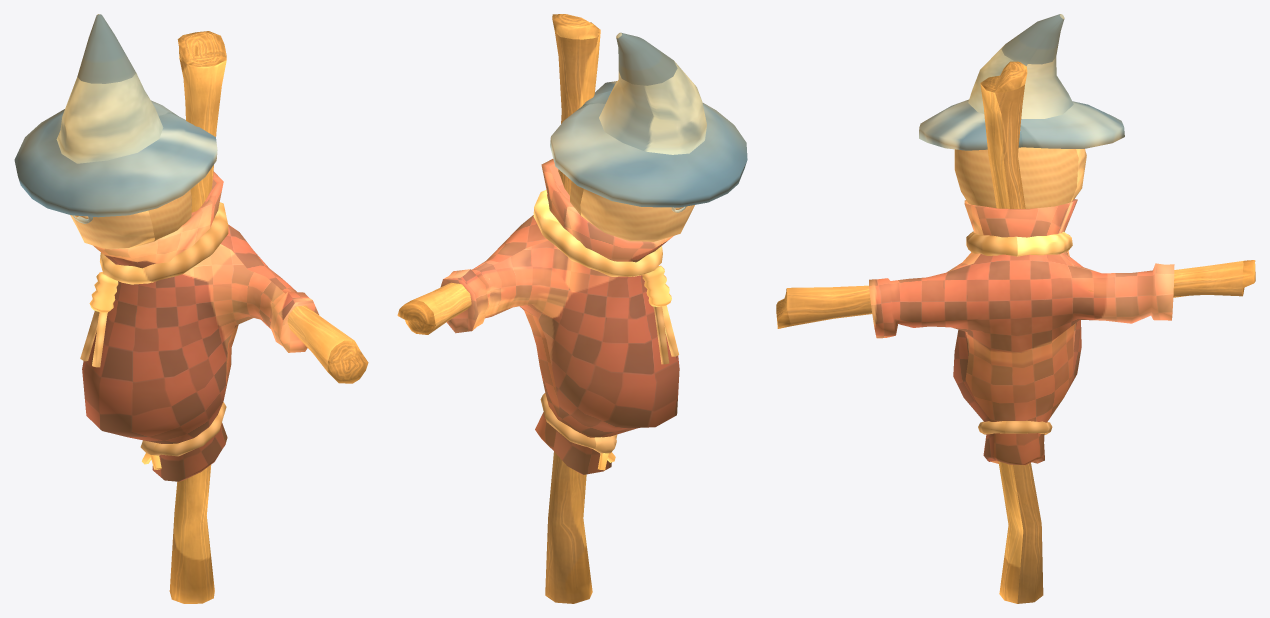
File: SM_Stylized_Scarecrow.fbx
3 renders of one model, left to right at view 1: azimuth 30°, elevation 25°; view 2: azimuth 150°, elevation 25°; view 3: azimuth 270°, elevation 25°, orthographic. The views are drawn at different scales.
Visible parts, largest first — view 1: SM_Stylized_Scarecrow_LOD0; view 2: SM_Stylized_Scarecrow_LOD0; view 3: SM_Stylized_Scarecrow_LOD0.
Part boxes in pixels (x1,y1,x2,y2): SM_Stylized_Scarecrow_LOD0: [14, 14, 368, 603]; SM_Stylized_Scarecrow_LOD0: [397, 14, 747, 603]; SM_Stylized_Scarecrow_LOD0: [776, 14, 1255, 603].
Bounding box in the file's own units: 78.01 × 165 × 208.
